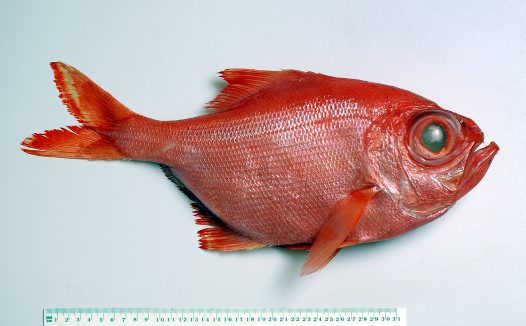fish: (22, 60, 499, 276)
